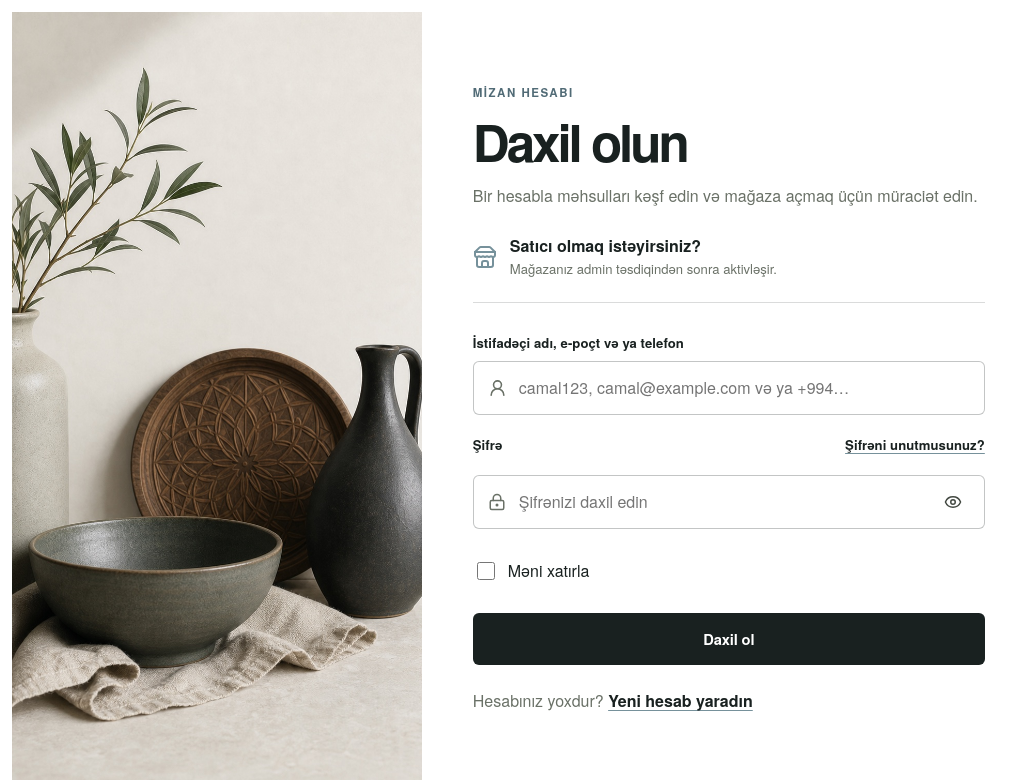
Test: LoginPage › shows validation messages before submit
This screenshot has width=1036, height=780.
Click the button "Daxil ol".
click(729, 639)  # box [473, 613, 985, 665]
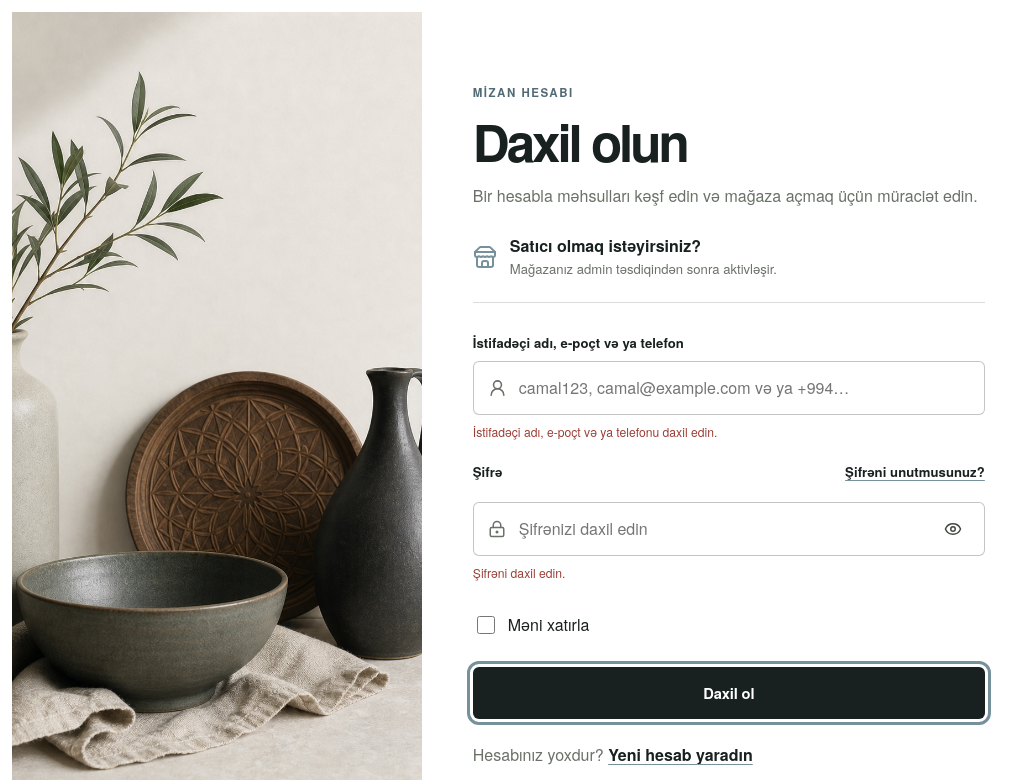
Expected: the text "İstifadəçi adı, e-poçt və ya telefonu daxil edin." is shown, [473, 423, 717, 440]
Expected: the text "Şifrəni daxil edin." is shown, [473, 564, 565, 581]
